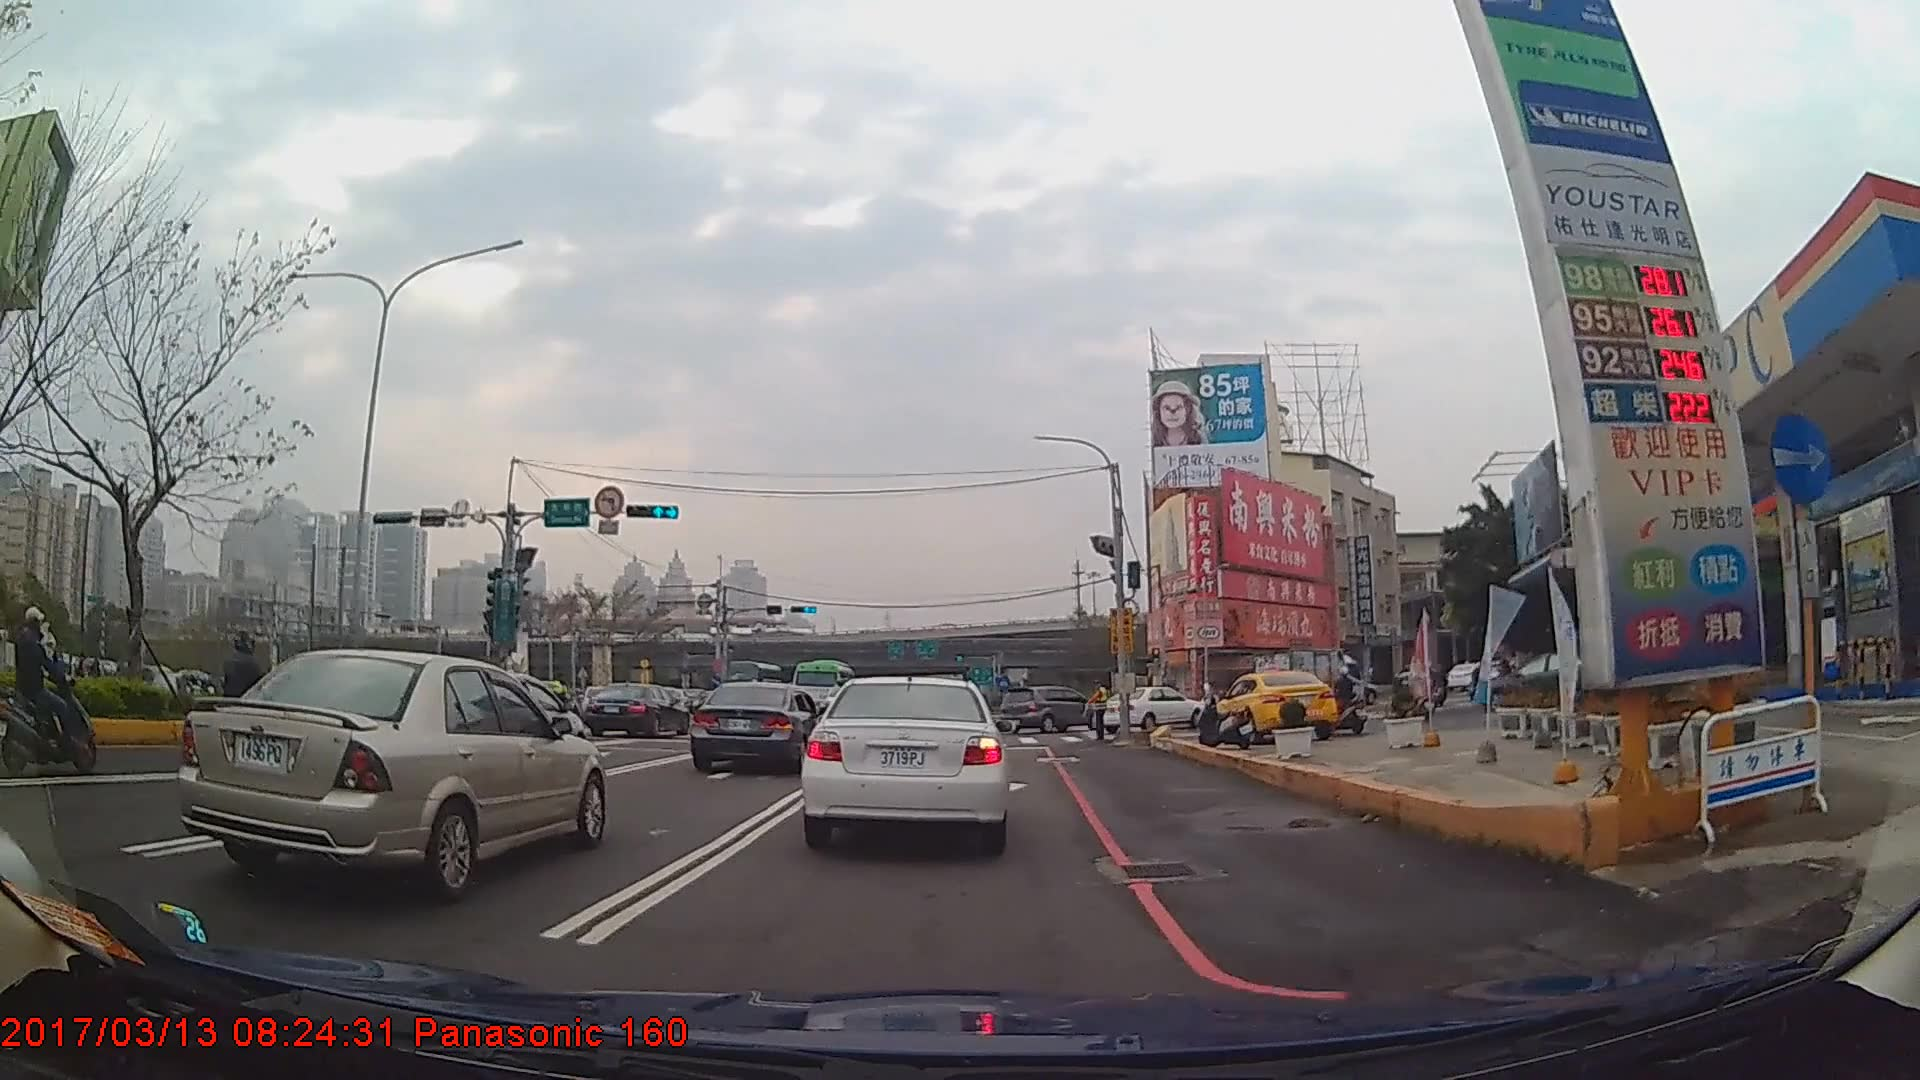pedestrian: (1081, 681, 1108, 742)
rider: (9, 608, 94, 779), (1326, 666, 1367, 736), (1412, 658, 1439, 722)
vehicle: (179, 646, 607, 900), (802, 666, 1010, 850), (686, 679, 824, 772), (1209, 667, 1338, 741), (1246, 645, 1363, 714), (582, 680, 685, 734), (1093, 681, 1203, 729), (1000, 683, 1101, 730), (788, 657, 856, 714)
